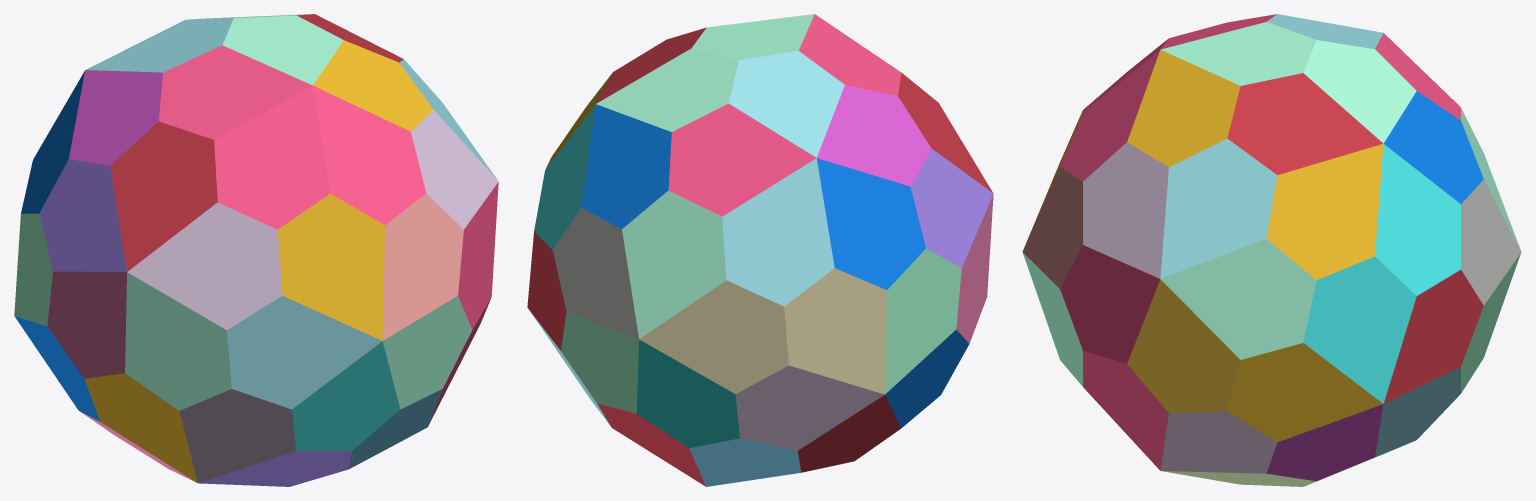
File: pentag.fbx
3 renders of one model, left to right at view 1: azimuth 30°, elevation 25°; view 2: azimuth 150°, elevation 25°; view 3: azimuth 270°, elevation 25°, orthographic. The views are drawn at different scales.
Parts seen in each view (by area): view 1: tetrakis; view 2: tetrakis; view 3: tetrakis.
Part boxes in pixels (x1=…): tetrakis: x1=14, y1=14, x2=498, y2=486; tetrakis: x1=527, y1=14, x2=993, y2=486; tetrakis: x1=1022, y1=14, x2=1521, y2=486.
Size of the model in its own units: 200 by 199 by 212.
